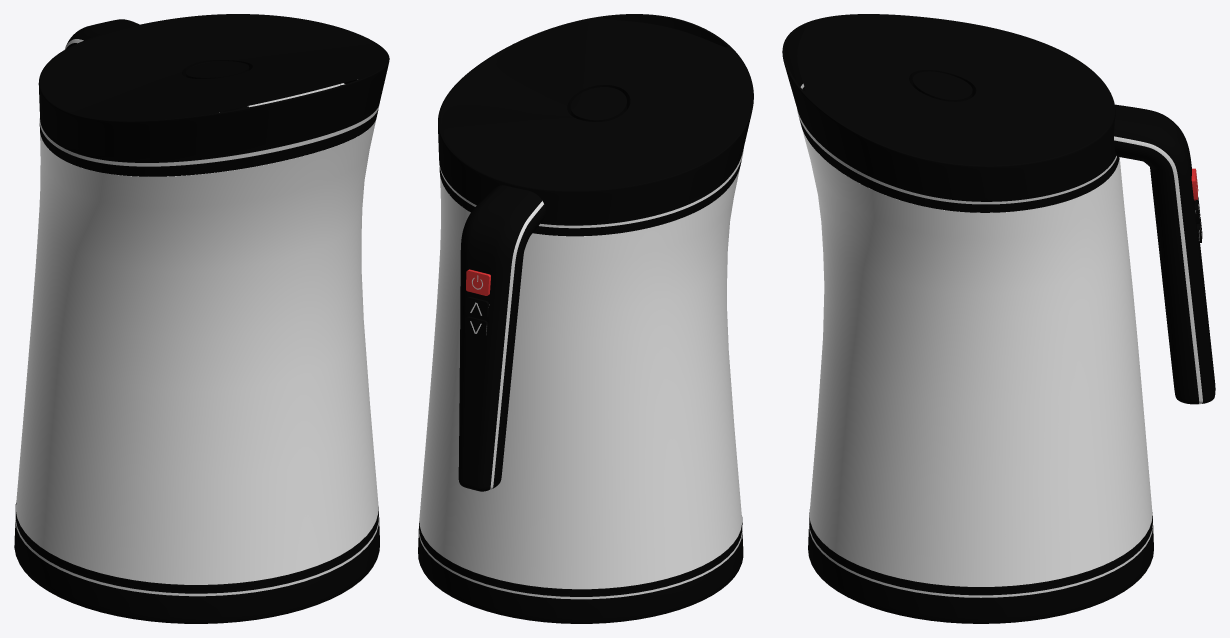
3 views of the same model, side by side, from view 1: azimuth 30°, elevation 25°; view 2: azimuth 150°, elevation 25°; view 3: azimuth 270°, elevation 25° (orthographic). The views are drawn at different scales.
Parts seen in each view (by area): view 1: tank, cap, bottom, Cylinder; view 2: tank, cap, Cylinder, bottom, Cylinder.001; view 3: tank, cap, Cylinder, bottom.
Boxes of the visible parts, <box> form: tank: <box>16,83,378,584</box>; cap: <box>38,14,389,176</box>; bottom: <box>14,503,379,623</box>; Cylinder: <box>65,19,139,49</box>; tank: <box>419,168,741,589</box>; cap: <box>438,14,753,236</box>; Cylinder: <box>458,185,545,491</box>; bottom: <box>418,517,743,623</box>; Cylinder.001: <box>466,269,490,295</box>; tank: <box>802,130,1152,586</box>; cap: <box>782,14,1119,212</box>; Cylinder: <box>1114,104,1215,404</box>; bottom: <box>808,509,1153,623</box>.
Size of the model in its own units: 2.08 by 3.31 by 2.6.
8 materials, 3 textured.
